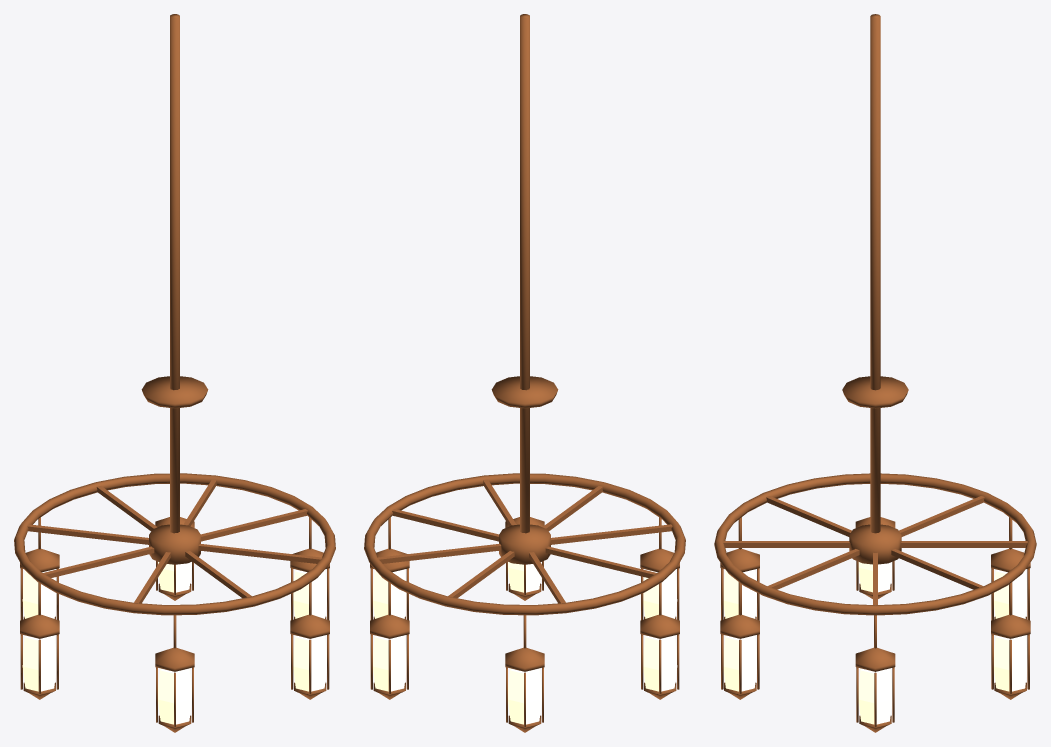
File: chandelier_lantern.glb
The picture shows the model from 3 angles, left to right: view 1: azimuth 30°, elevation 25°; view 2: azimuth 150°, elevation 25°; view 3: azimuth 270°, elevation 25°; orthographic projection.
Parts seen in each view (by area): view 1: chandelier_lantern metal, chandelier_lantern lamp; view 2: chandelier_lantern metal, chandelier_lantern lamp; view 3: chandelier_lantern metal, chandelier_lantern lamp.
Part boxes in pixels (x1,y1,x2,y2): chandelier_lantern metal: [14, 14, 335, 732]; chandelier_lantern lamp: [22, 562, 326, 724]; chandelier_lantern metal: [364, 14, 685, 732]; chandelier_lantern lamp: [373, 562, 677, 724]; chandelier_lantern metal: [714, 14, 1036, 732]; chandelier_lantern lamp: [723, 562, 1027, 724].
Bounding box in the file's own units: 3.44 × 6.9 × 3.1.
